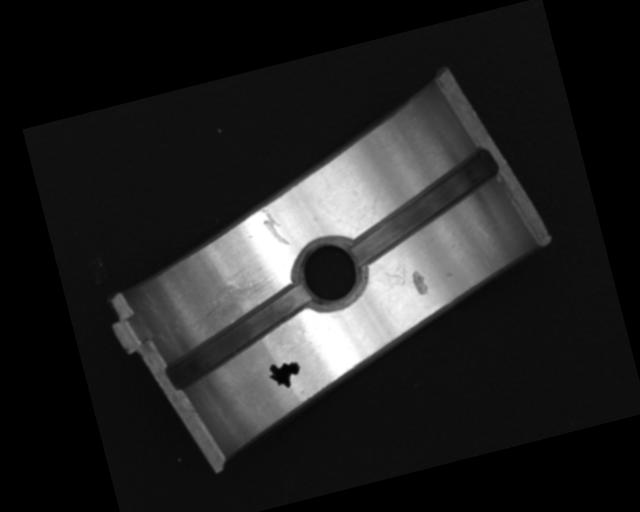blot: (266, 357, 305, 392)
bruise: (410, 268, 430, 297)
gap: (335, 148, 511, 266), (155, 285, 321, 391)
hole: (288, 235, 367, 315)
nick: (259, 203, 291, 250)
scratch: (183, 270, 281, 337)
